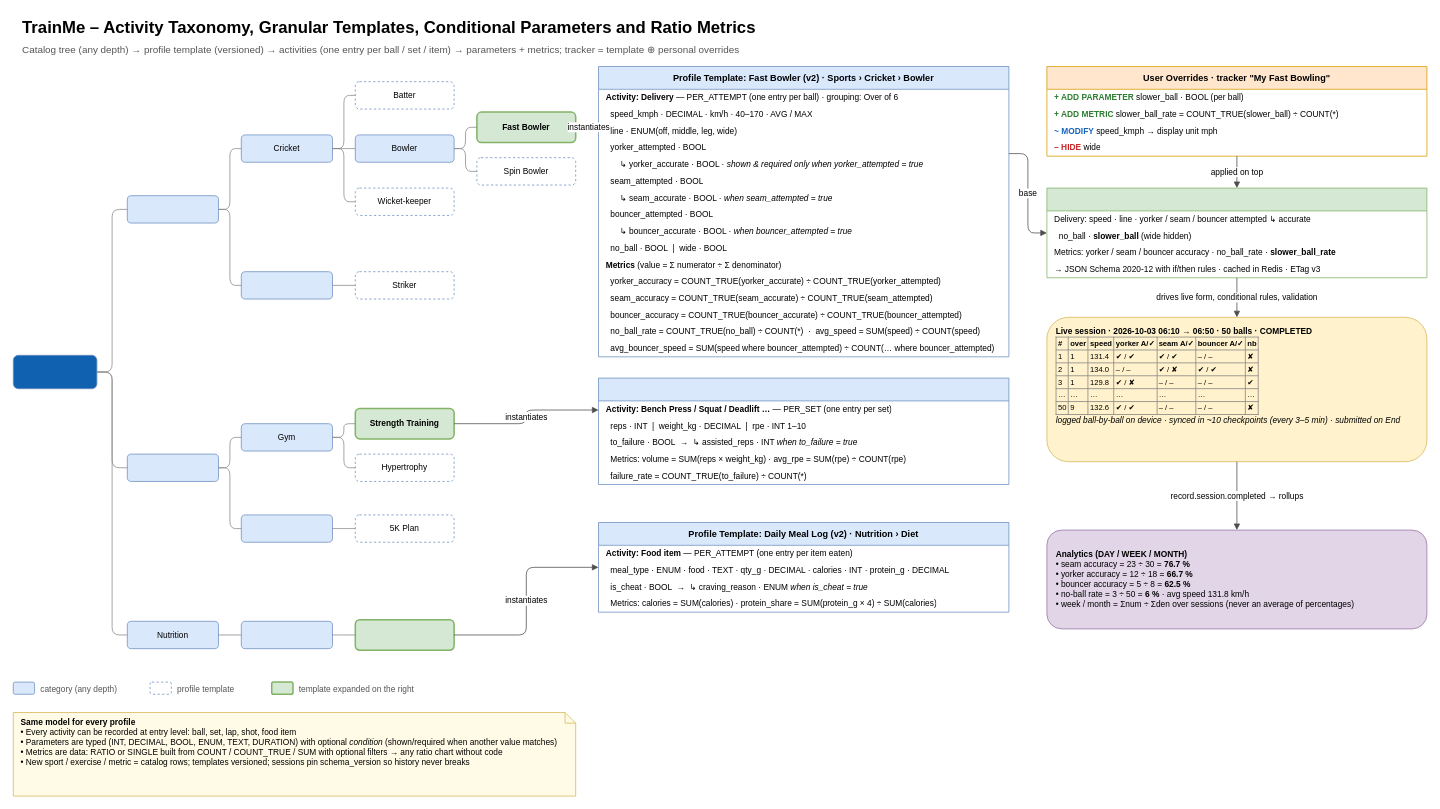
Some shapes in this 1440 by 809 pixel diagram are drawn without their labels. The shapes that lost their labels are listed below. From the top down, each one's box as (x1, y1, x2, y2) in pixels, then its label:
(127, 195, 218, 223): Sports
(1046, 187, 1427, 278): Effective Schema · tracker schema v3 (pinned per session)
(241, 271, 332, 299): Football
(13, 355, 97, 389): Catalog
(598, 377, 1009, 484): Profile Template: Strength Training (v2) · Fitness › Gym
(127, 453, 218, 481): Fitness
(241, 514, 332, 542): Running
(241, 621, 332, 649): Diet
(354, 619, 454, 651): Daily Meal Log
